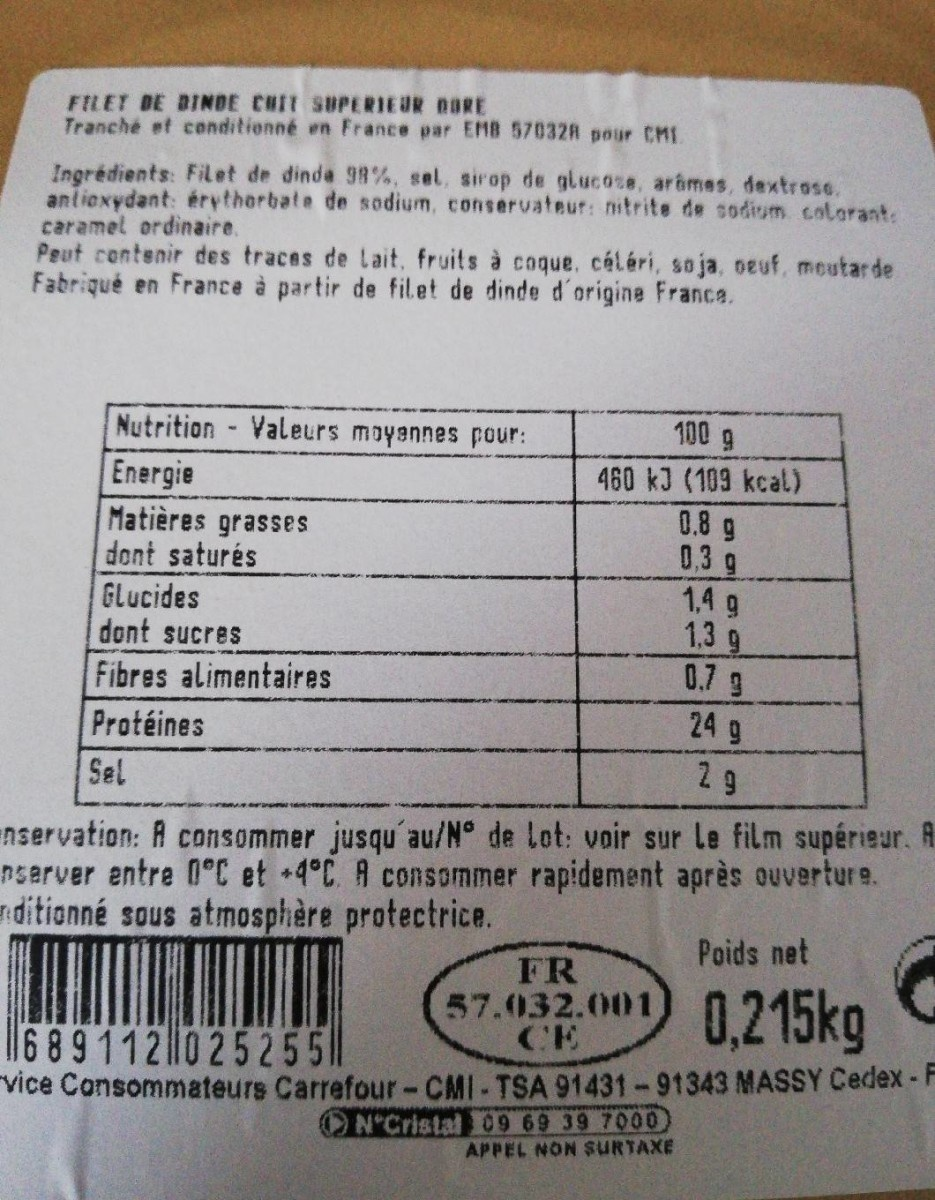column: (84, 412, 526, 799), (595, 415, 804, 797)
table: (73, 403, 866, 810)
